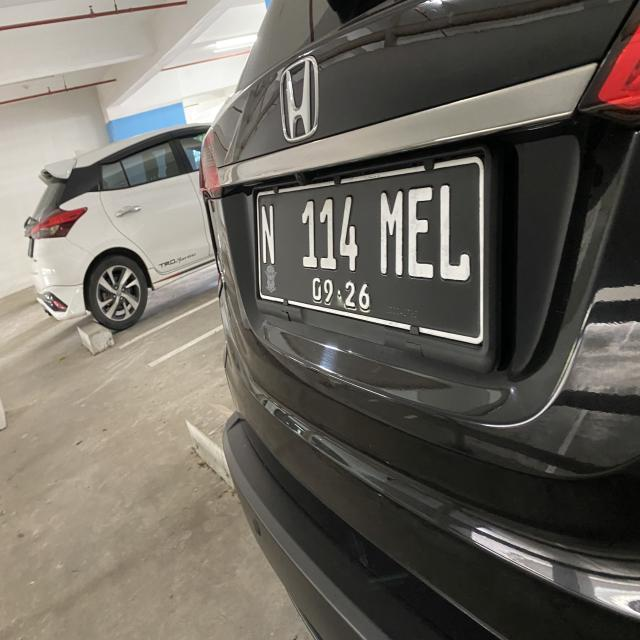1: (320, 196, 340, 274), (300, 196, 320, 272)
4: (342, 196, 362, 276)
E: (408, 185, 433, 284)
L: (438, 183, 475, 285)
M: (375, 186, 406, 280)
N: (258, 202, 281, 272)
